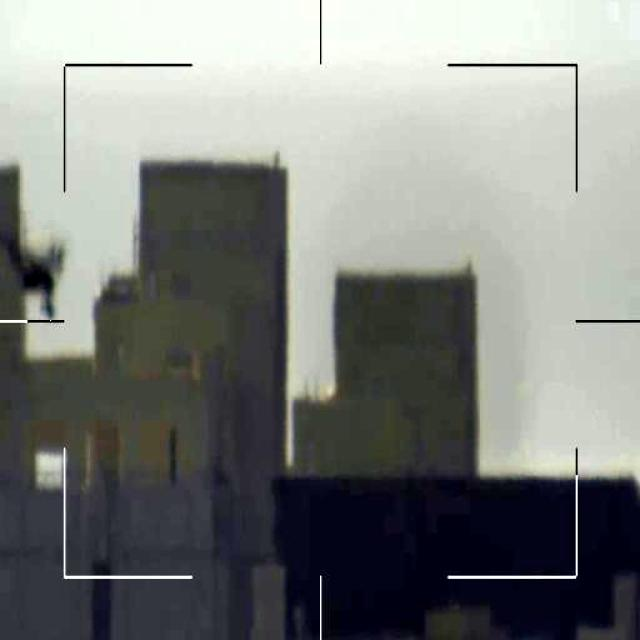bird: (2, 228, 71, 322)
